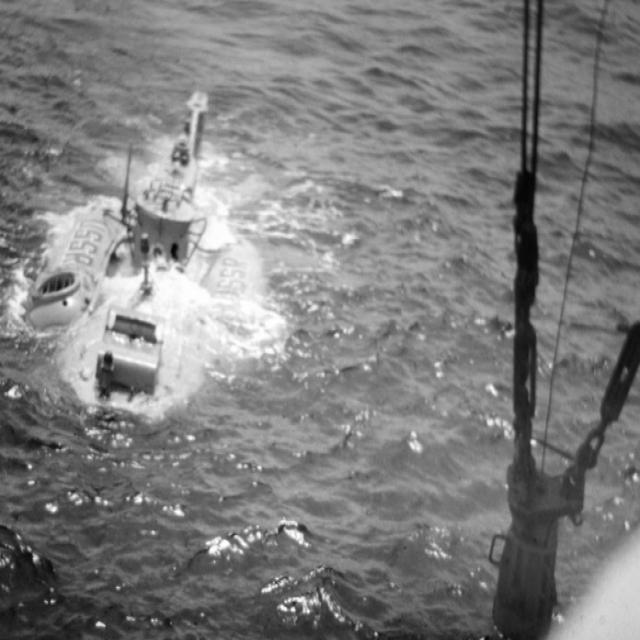submarine: (26, 82, 275, 420)
